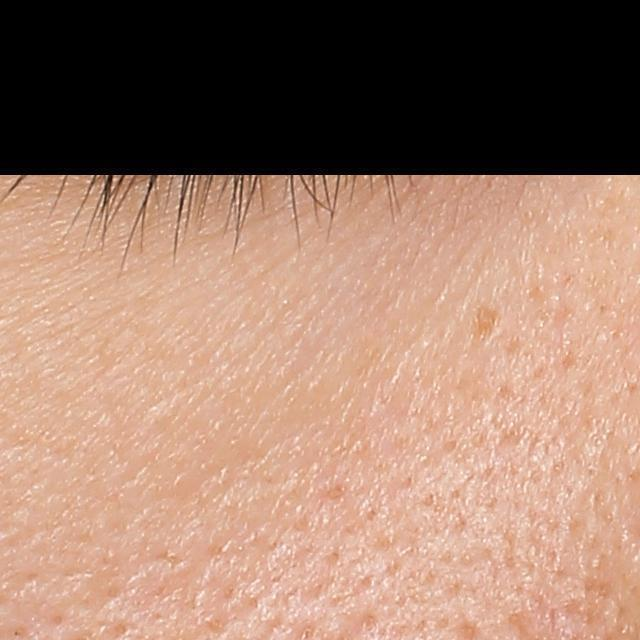melasma: (477, 306, 505, 343)
